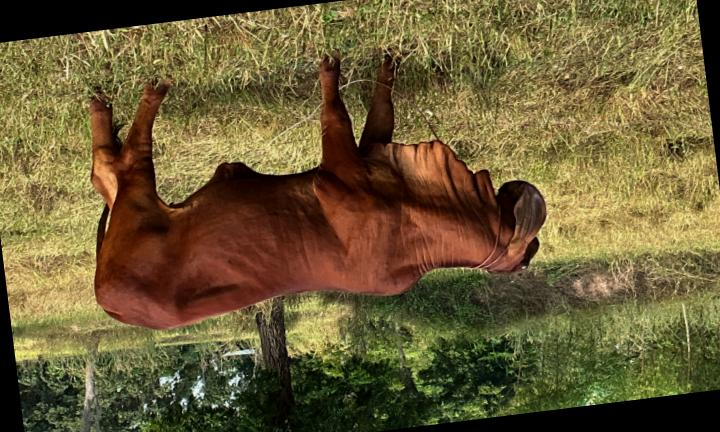Brahman: (90, 53, 545, 329)
